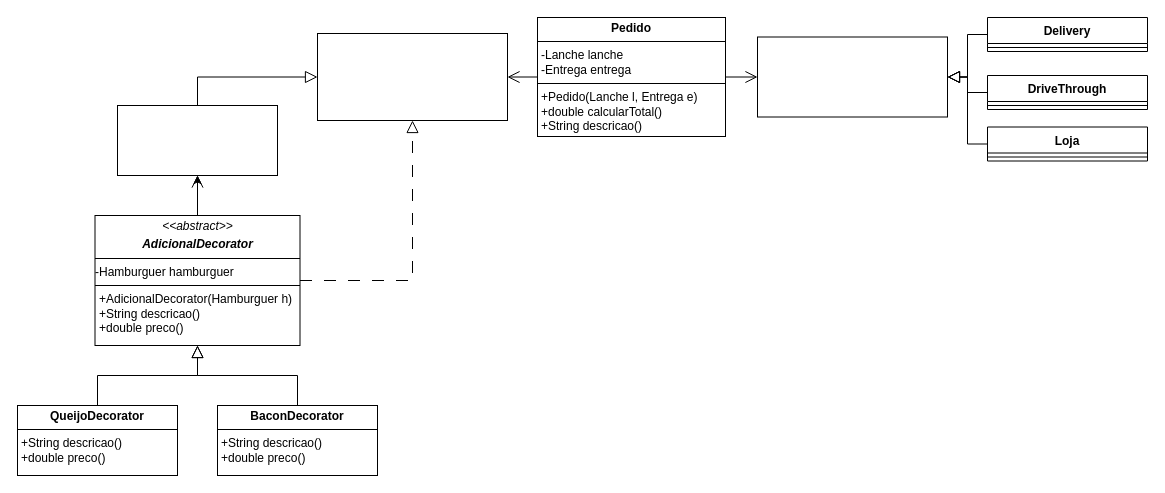
Some shapes in this 1165 by 493 pixel diagram are drawn without their labels. Here are the shapes that lost their labels. From the top down, the box of each, then its label:
(316, 32, 508, 120): <<Interface>> Lanche +String descricao() +double preco()
(756, 36, 948, 117): <<Interface>> Entrega +void processar(Pedido p)
(116, 104, 278, 176): Hamburguer +String descricao() +double preco()
